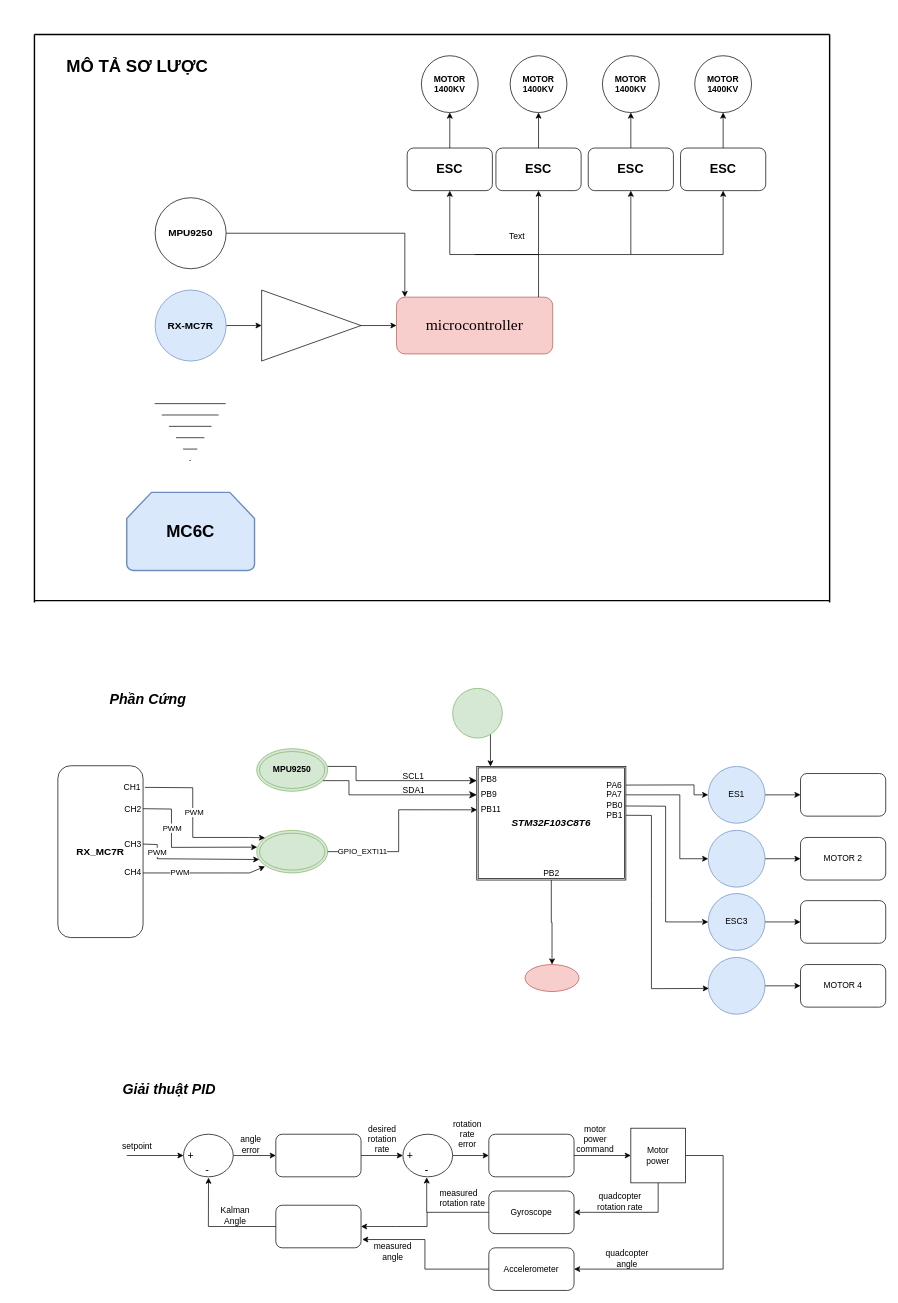
Image size: 898x1303. Some labels were removed from this diagram. The shapes that lost their labels are listed below. From the top down, each one's centre as x and y in pixels, then its label:
At point 311,325: "PWM to PPM".
At point 477,713: "Timer 2".
At point 843,794: "MOTOR 1".
At point 292,851: "PPM".
At point 736,858: "ESC2".
At point 843,921: "MOTOR 3".
At point 551,978: "LED".
At point 736,985: "ESC4".
At point 318,1155: "Angle controller".
At point 531,1155: "Rate controller".
At point 318,1226: "Kalman Filter".
